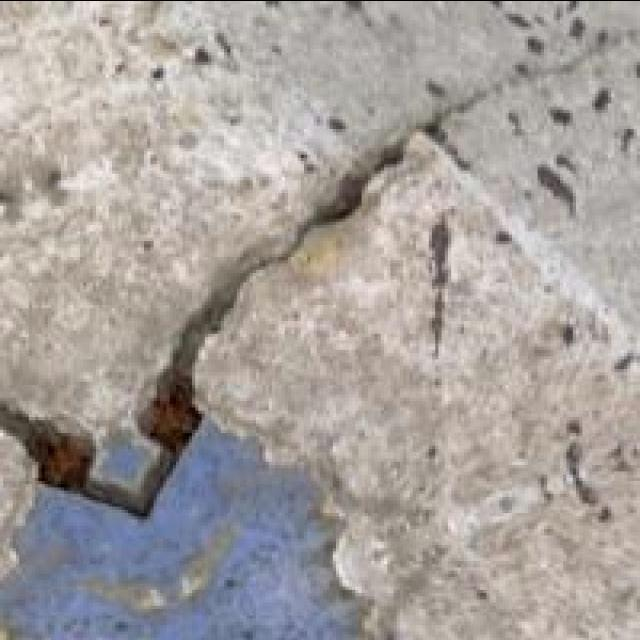SurfaceCrack: (0, 74, 466, 536)
